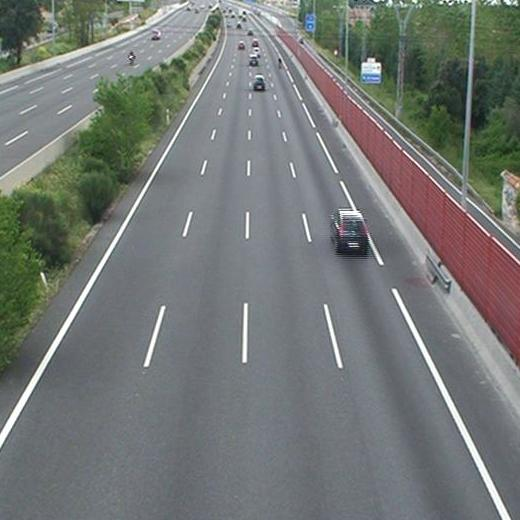car: (331, 210, 369, 251), (253, 75, 266, 90), (249, 56, 258, 66), (251, 47, 260, 55), (237, 41, 245, 50)
motorcycle: (276, 56, 283, 69)
